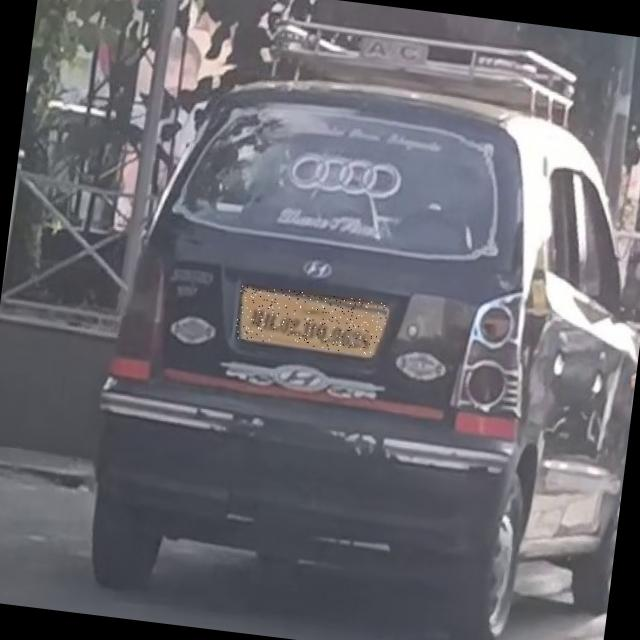Plate: (236, 285, 389, 357)
